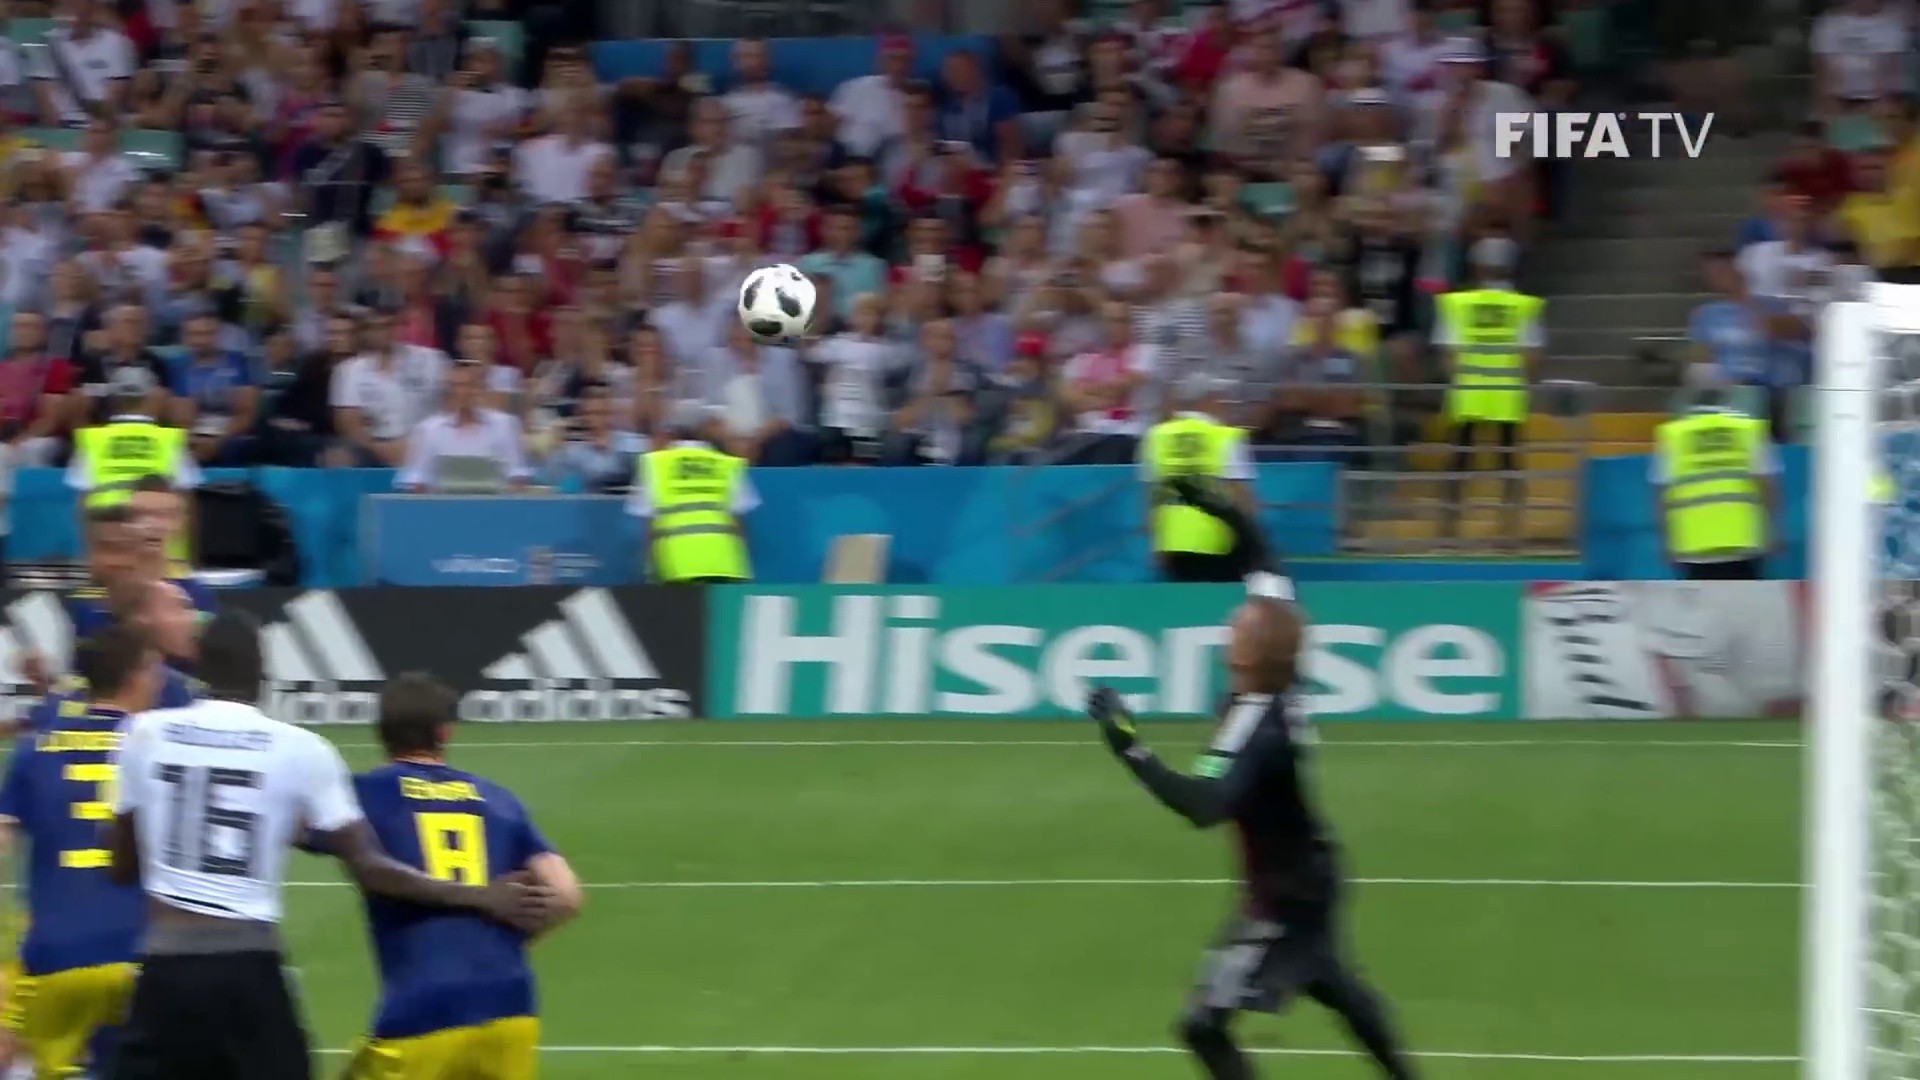ball: (742, 265, 815, 345)
person: (1101, 582, 1425, 1080), (126, 607, 376, 1080), (334, 668, 588, 1076), (5, 605, 178, 1078)
